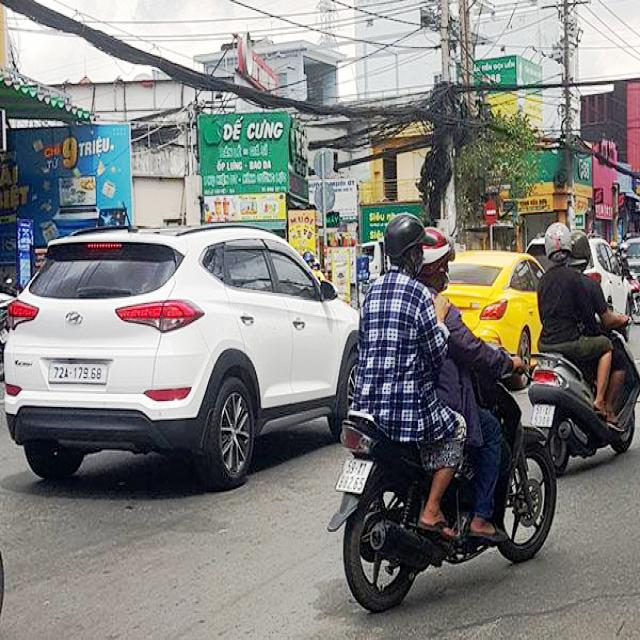license_plate: (337, 460, 375, 493), (49, 363, 108, 384)
